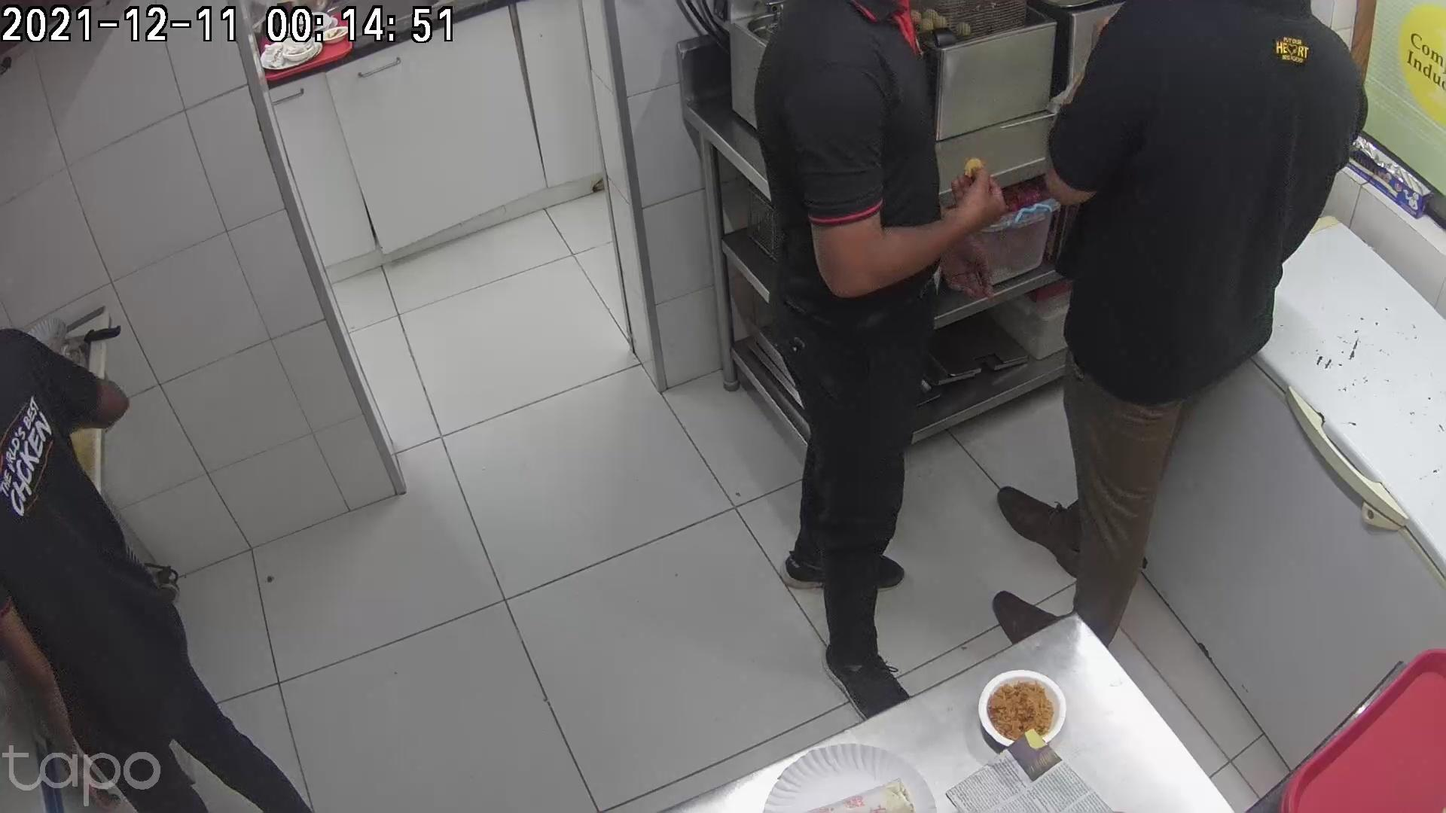no_gloves: (520, 346, 571, 473)
